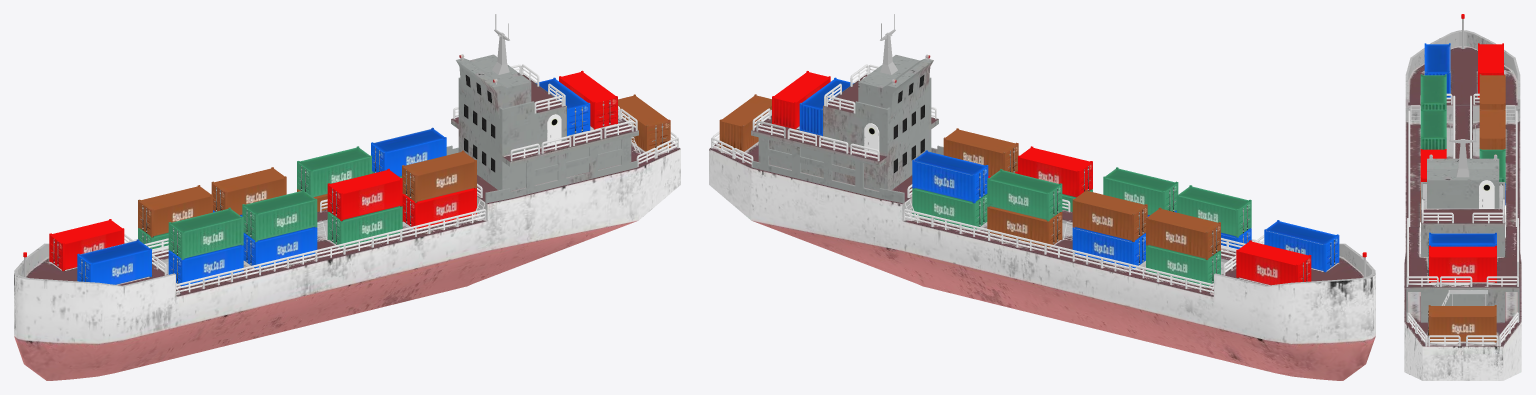
File: container.glb
3 renders of one model, left to right at view 1: azimuth 30°, elevation 25°; view 2: azimuth 150°, elevation 25°; view 3: azimuth 270°, elevation 25°, orthographic. The views are drawn at different scales.
Visible parts, largest first — view 1: polySurface2268, polySurface2207, polySurface2081, polySurface1965, polySurface1987, polySurface2117, polySurface2215, polySurface2336, polySurface2270, polySurface2021, polySurface2138, polySurface2347 (+8 smaller); view 2: polySurface2268, polySurface2207, polySurface2138, polySurface2021, polySurface2270, polySurface2106, polySurface2216, polySurface2347, polySurface2081, polySurface1965, polySurface2336, polySurface1987 (+8 smaller); view 3: polySurface2268, polySurface2207, polySurface2322, polySurface2311, polySurface2106, polySurface1987, polySurface2336, polySurface2300, polySurface2270, polySurface2081, polySurface2347, polySurface2208 (+19 smaller).
Part boxes in pixels (<box>): polySurface2268: <box>14,142,680,380</box>; polySurface2207: <box>451,54,638,190</box>; polySurface2081: <box>168,207,243,259</box>; polySurface1965: <box>327,168,402,221</box>; polySurface1987: <box>242,189,317,241</box>; polySurface2117: <box>402,150,476,202</box>; polySurface2215: <box>485,137,637,203</box>; polySurface2336: <box>77,239,151,284</box>; polySurface2270: <box>138,185,212,237</box>; polySurface2021: <box>297,146,371,197</box>; polySurface2138: <box>371,127,446,176</box>; polySurface2347: <box>49,219,124,271</box>; polySurface2268: <box>709,141,1375,380</box>; polySurface2207: <box>751,55,938,190</box>; polySurface2138: <box>912,150,988,203</box>; polySurface2021: <box>987,169,1062,221</box>; polySurface2270: <box>1146,207,1220,259</box>; polySurface2106: <box>1072,189,1147,241</box>; polySurface2216: <box>752,137,904,203</box>; polySurface2347: <box>1236,240,1311,285</box>; polySurface2081: <box>1176,185,1251,237</box>; polySurface1965: <box>1018,146,1092,197</box>; polySurface2336: <box>1264,220,1339,272</box>; polySurface1987: <box>1103,167,1178,215</box>; polySurface2268: <box>1404,30,1521,380</box>; polySurface2207: <box>1406,158,1519,322</box>; polySurface2322: <box>1429,245,1496,282</box>; polySurface2311: <box>1428,305,1496,342</box>; polySurface2106: <box>1479,109,1505,149</box>; polySurface1987: <box>1420,109,1446,149</box>; polySurface2336: <box>1424,43,1450,97</box>; polySurface2300: <box>1429,232,1496,246</box>; polySurface2270: <box>1479,74,1505,109</box>; polySurface2081: <box>1420,74,1446,109</box>; polySurface2347: <box>1478,43,1503,97</box>; polySurface2208: <box>1455,105,1472,158</box>.
Size of the model in its own units: 2 by 0.7404 by 0.3277.
Materials: 1 (1 with a texture image).
